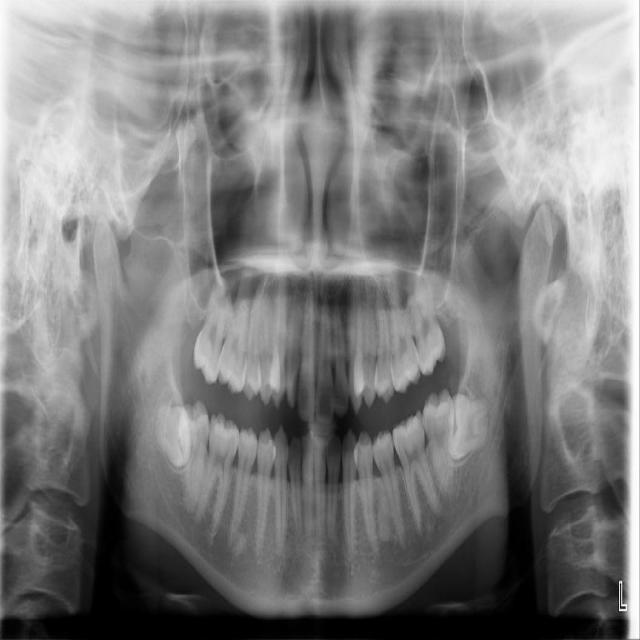73: (583, 534, 595, 562)
BioHorizons Implant: (406, 255, 449, 378)
Biomet 3i Implant: (446, 392, 492, 462)
Blue Sky Bio Implant: (421, 388, 457, 499)
Caries: (188, 254, 240, 386)
Implant: (178, 399, 209, 513)
Keystone Dental Implant: (152, 402, 194, 470)
